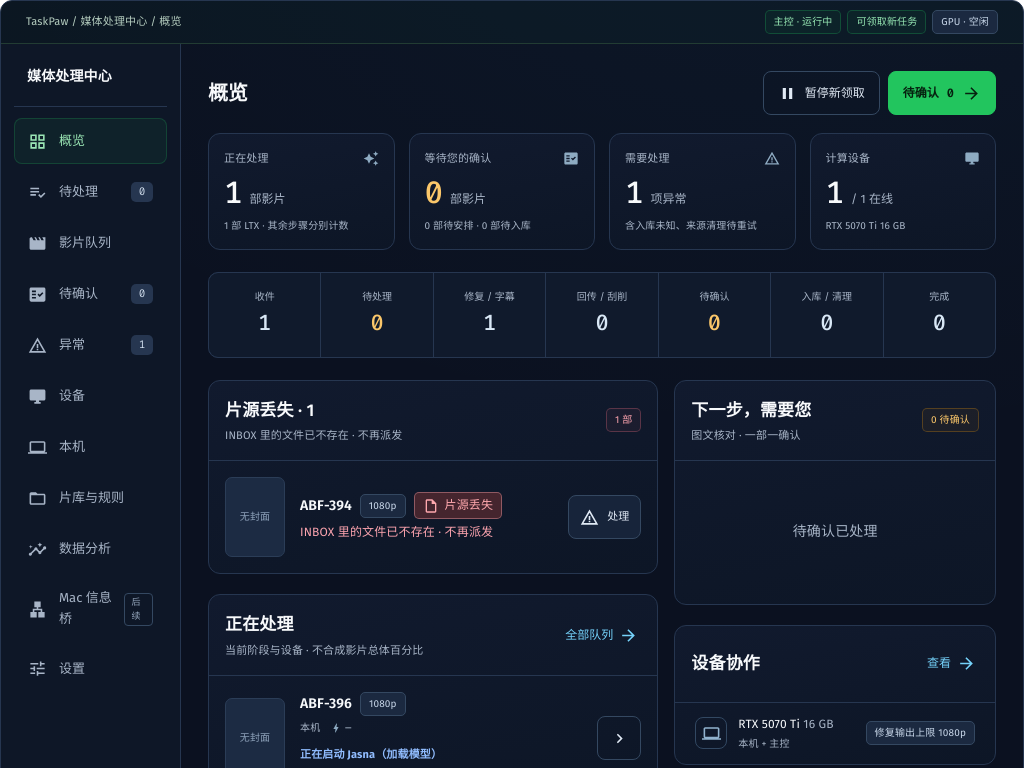
概览 › shows the 片源丢失 badge and its note, and opens the drawer
Expected: the heading "ABF-394" is shown, 300,495 -> 352,517
Expected: the text "片源丢失" is shown, 414,492 -> 502,519
Click the button with aria-label "处理 ABF-394" at (605, 517), box 568,495 -> 641,539
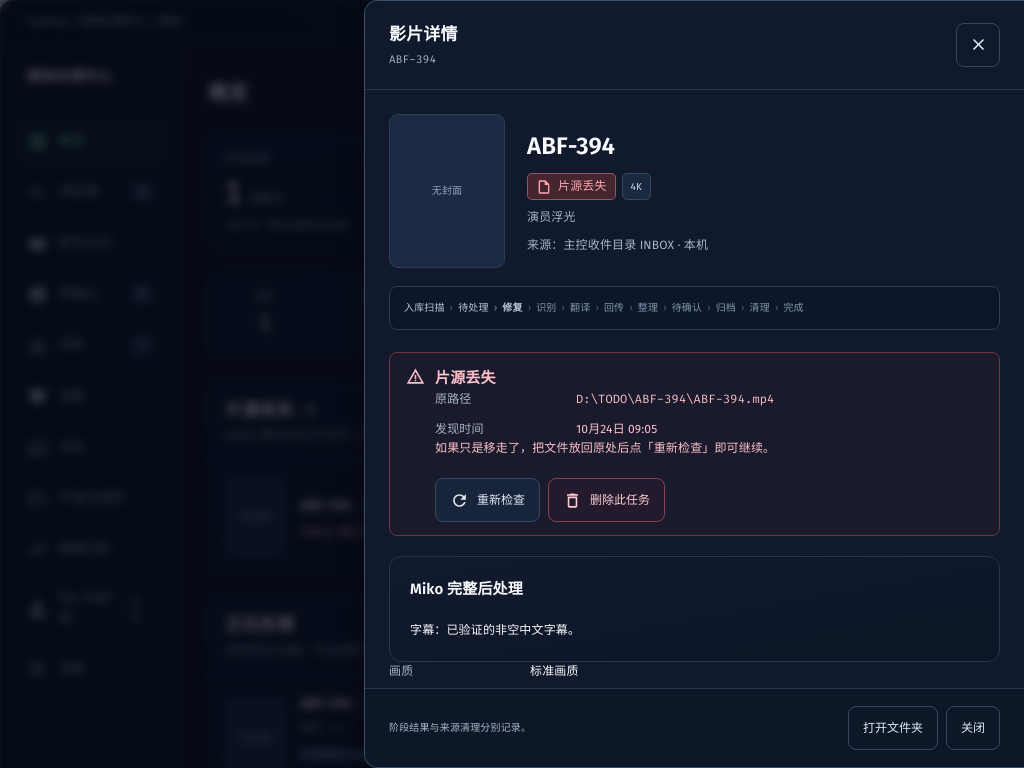
Result: the dialog "影片详情" is shown
